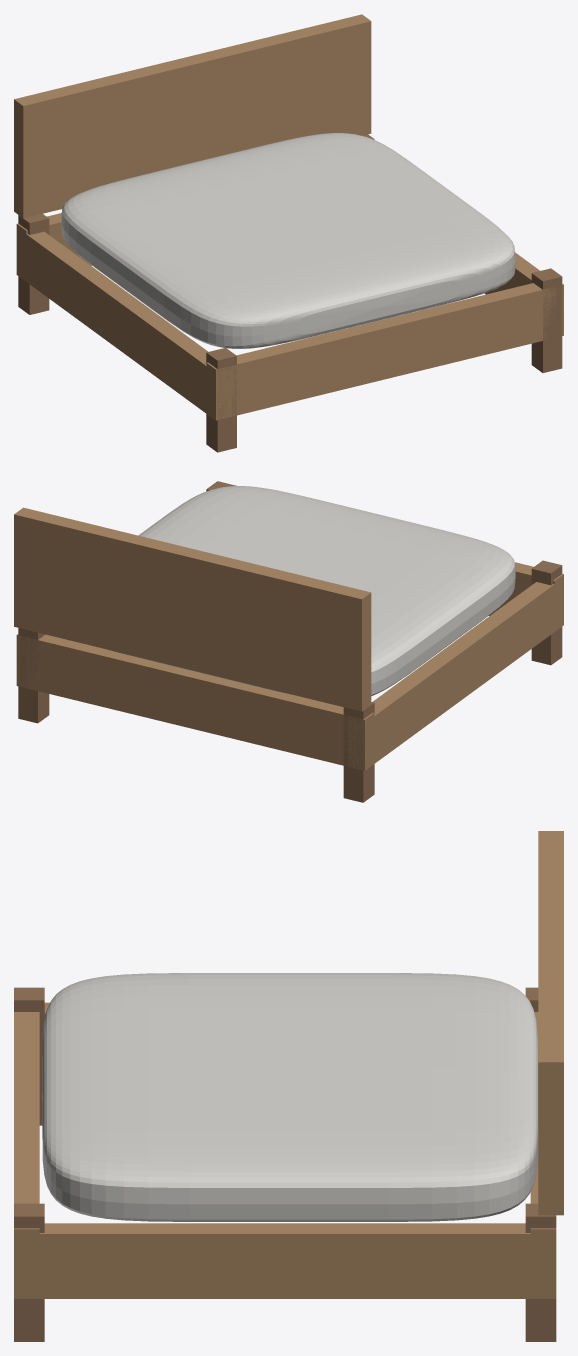
The model's file is bed.glb.
3 renders of one model, top to bottom at view 1: azimuth 30°, elevation 25°; view 2: azimuth 150°, elevation 25°; view 3: azimuth 270°, elevation 25°, orthographic. The views are drawn at different scales.
Parts seen in each view (by area): view 1: Mattress, Headboard, Foot_Rail, Side_Rail_Left, Leg_3, Leg_1, Leg_0, Head_Rail, Side_Rail_Right; view 2: Headboard, Mattress, Head_Rail, Side_Rail_Left, Leg_0, Leg_2, Leg_1, Foot_Rail, Side_Rail_Right; view 3: Mattress, Side_Rail_Right, Headboard, Foot_Rail, Leg_3, Leg_2, Leg_1, Head_Rail.
Part boxes in pixels (left/top/right/bottom): Mattress: left=61, top=133, right=515, bottom=348; Headboard: left=14, top=14, right=371, bottom=218; Foot_Rail: left=206, top=283, right=563, bottom=420; Side_Rail_Left: left=16, top=227, right=232, bottom=420; Leg_3: left=531, top=268, right=562, bottom=372; Leg_1: left=206, top=347, right=236, bottom=452; Leg_0: left=18, top=214, right=49, bottom=314; Head_Rail: left=16, top=213, right=91, bottom=281; Side_Rail_Right: left=485, top=253, right=563, bottom=335; Headboard: left=14, top=507, right=371, bottom=711; Mattress: left=110, top=486, right=515, bottom=695; Head_Rail: left=16, top=634, right=374, bottom=769; Side_Rail_Left: left=348, top=578, right=563, bottom=770; Leg_0: left=343, top=702, right=374, bottom=802; Leg_2: left=18, top=628, right=49, bottom=723; Leg_1: left=531, top=560, right=562, bottom=665; Foot_Rail: left=488, top=562, right=563, bottom=631; Side_Rail_Right: left=16, top=638, right=32, bottom=689; Mattress: left=42, top=973, right=538, bottom=1221; Side_Rail_Right: left=14, top=1223, right=556, bottom=1298; Headboard: left=538, top=831, right=563, bottom=1215; Foot_Rail: left=14, top=1012, right=39, bottom=1298; Leg_3: left=14, top=1203, right=44, bottom=1341; Leg_2: left=525, top=1203, right=556, bottom=1341; Leg_1: left=14, top=987, right=44, bottom=1125; Head_Rail: left=530, top=1012, right=556, bottom=1298.
Size of the model in its own units: 2.14 by 1.21 by 2.15.
